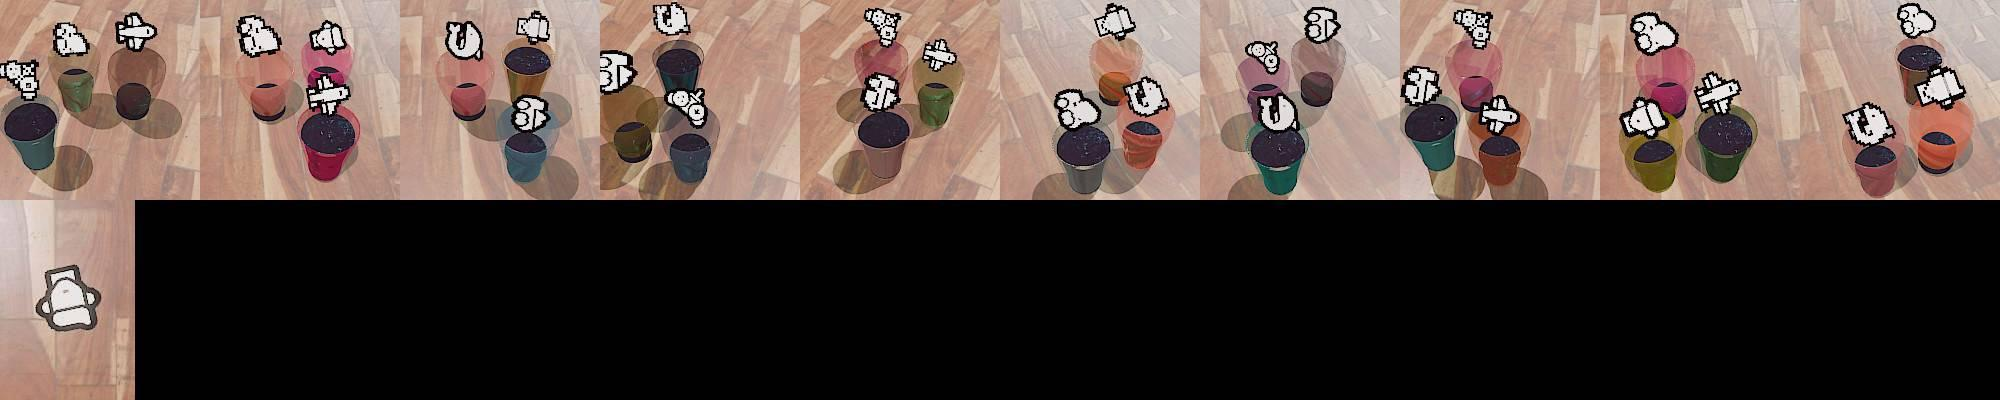icon: (34, 264, 103, 332), (1843, 101, 1895, 148), (1693, 70, 1742, 116), (1912, 65, 1964, 108), (1629, 11, 1679, 56), (1620, 94, 1671, 138), (236, 14, 283, 59), (1122, 74, 1171, 117), (1054, 88, 1103, 130), (1255, 88, 1300, 132), (1477, 93, 1523, 135), (663, 84, 708, 126), (0, 57, 42, 101), (1452, 8, 1494, 50), (304, 76, 351, 113), (443, 20, 485, 61), (598, 50, 636, 94), (1402, 64, 1443, 104), (861, 71, 902, 112), (864, 6, 904, 47), (115, 11, 157, 51), (1094, 3, 1136, 41), (1302, 5, 1341, 43), (52, 20, 91, 59), (309, 19, 348, 55), (652, 1, 691, 37), (1897, 3, 1935, 38), (1244, 39, 1281, 75), (515, 9, 552, 45), (511, 94, 547, 130), (922, 38, 957, 71)
